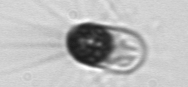plankton: (57, 16, 154, 82)
